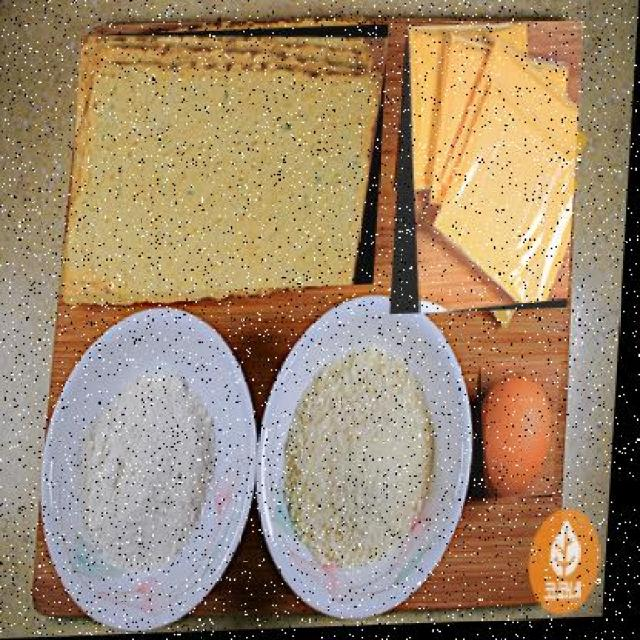cheese: (394, 25, 585, 319)
egg: (477, 365, 566, 505)
fish_cake: (69, 28, 391, 298)
